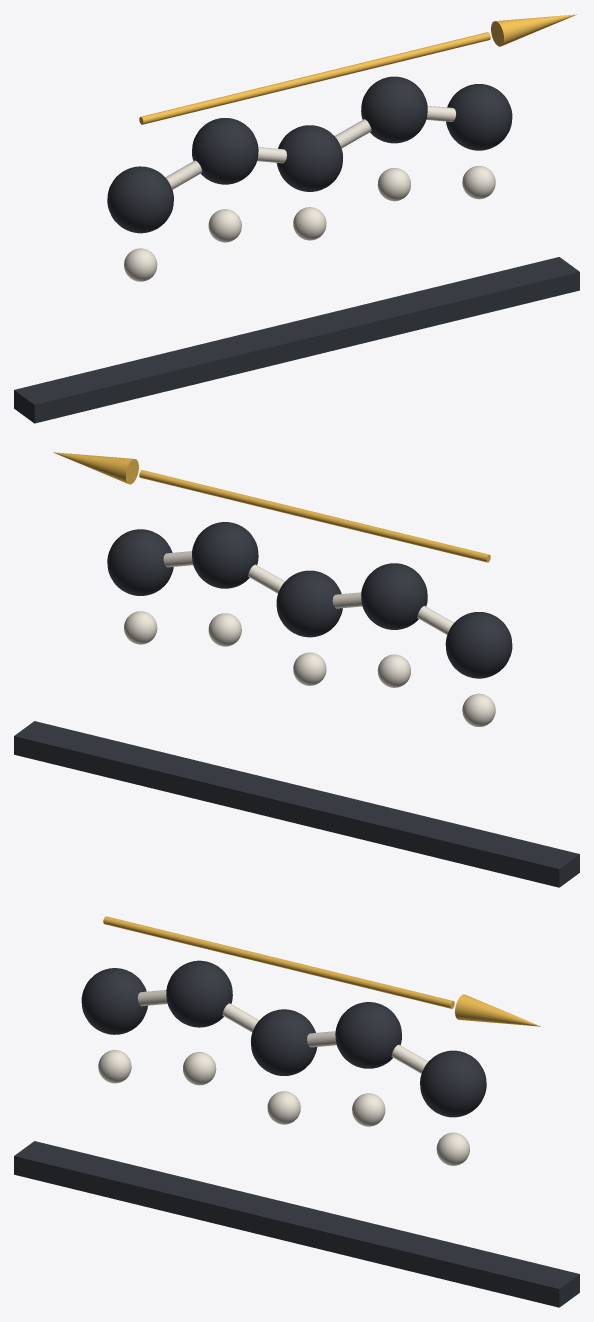
File: chem-p1-carbon-chain.glb
3 renders of one model, top to bottom at view 1: azimuth 30°, elevation 25°; view 2: azimuth 150°, elevation 25°; view 3: azimuth 330°, elevation 25°, orthographic.
Visible parts, largest first — view 1: organic-chemistry-bench-reference-base, visible-carbon-backbone-carbon-0, visible-carbon-backbone-carbon-3, visible-carbon-backbone-carbon-1, visible-carbon-backbone-carbon-4, visible-carbon-backbone-carbon-2, carbon-chain-continues-direction-shaft, carbon-chain-continues-direction-head, attached-hydrogen-marker-4, attached-hydrogen-marker-0, attached-hydrogen-marker-1, attached-hydrogen-marker-2 (+3 smaller); view 2: organic-chemistry-bench-reference-base, visible-carbon-backbone-carbon-0, visible-carbon-backbone-carbon-1, visible-carbon-backbone-carbon-3, visible-carbon-backbone-carbon-2, visible-carbon-backbone-carbon-4, carbon-chain-continues-direction-shaft, carbon-chain-continues-direction-head, attached-hydrogen-marker-0, attached-hydrogen-marker-4, attached-hydrogen-marker-1, attached-hydrogen-marker-3 (+1 smaller); view 3: organic-chemistry-bench-reference-base, visible-carbon-backbone-carbon-4, visible-carbon-backbone-carbon-1, visible-carbon-backbone-carbon-3, visible-carbon-backbone-carbon-2, visible-carbon-backbone-carbon-0, carbon-chain-continues-direction-shaft, carbon-chain-continues-direction-head, attached-hydrogen-marker-3, attached-hydrogen-marker-0, attached-hydrogen-marker-2, attached-hydrogen-marker-4 (+3 smaller).
Part boxes in pixels (left/top/right/bottom): organic-chemistry-bench-reference-base: left=14, top=257, right=579, bottom=423; visible-carbon-backbone-carbon-0: left=107, top=166, right=173, bottom=233; visible-carbon-backbone-carbon-3: left=361, top=76, right=427, bottom=143; visible-carbon-backbone-carbon-1: left=192, top=118, right=258, bottom=184; visible-carbon-backbone-carbon-4: left=446, top=84, right=512, bottom=150; visible-carbon-backbone-carbon-2: left=276, top=125, right=342, bottom=191; carbon-chain-continues-direction-shaft: left=139, top=32, right=490, bottom=124; carbon-chain-continues-direction-head: left=491, top=14, right=576, bottom=46; attached-hydrogen-marker-4: left=462, top=166, right=495, bottom=199; attached-hydrogen-marker-0: left=124, top=248, right=157, bottom=281; attached-hydrogen-marker-1: left=208, top=209, right=241, bottom=242; attached-hydrogen-marker-2: left=293, top=207, right=326, bottom=240; organic-chemistry-bench-reference-base: left=14, top=721, right=579, bottom=887; visible-carbon-backbone-carbon-0: left=445, top=612, right=512, bottom=678; visible-carbon-backbone-carbon-1: left=361, top=563, right=427, bottom=629; visible-carbon-backbone-carbon-3: left=192, top=522, right=258, bottom=588; visible-carbon-backbone-carbon-2: left=276, top=570, right=342, bottom=637; visible-carbon-backbone-carbon-4: left=107, top=529, right=173, bottom=595; carbon-chain-continues-direction-shaft: left=139, top=470, right=490, bottom=562; carbon-chain-continues-direction-head: left=53, top=452, right=138, bottom=484; attached-hydrogen-marker-0: left=462, top=693, right=495, bottom=726; attached-hydrogen-marker-4: left=124, top=611, right=157, bottom=644; attached-hydrogen-marker-1: left=377, top=654, right=410, bottom=687; attached-hydrogen-marker-3: left=208, top=613, right=241, bottom=646; organic-chemistry-bench-reference-base: left=14, top=1141, right=579, bottom=1307; visible-carbon-backbone-carbon-4: left=420, top=1050, right=486, bottom=1117; visible-carbon-backbone-carbon-1: left=166, top=960, right=232, bottom=1027; visible-carbon-backbone-carbon-3: left=335, top=1002, right=401, bottom=1068; visible-carbon-backbone-carbon-2: left=250, top=1009, right=317, bottom=1075; visible-carbon-backbone-carbon-0: left=81, top=968, right=147, bottom=1034; carbon-chain-continues-direction-shaft: left=103, top=916, right=454, bottom=1008; carbon-chain-continues-direction-head: left=455, top=994, right=540, bottom=1026; attached-hydrogen-marker-3: left=352, top=1093, right=385, bottom=1126; attached-hydrogen-marker-0: left=98, top=1050, right=131, bottom=1083; attached-hydrogen-marker-2: left=267, top=1091, right=300, bottom=1124; attached-hydrogen-marker-4: left=436, top=1132, right=469, bottom=1165.
Size of what is drawn, in the model's own units: 2.45 by 1.27 by 0.31.
